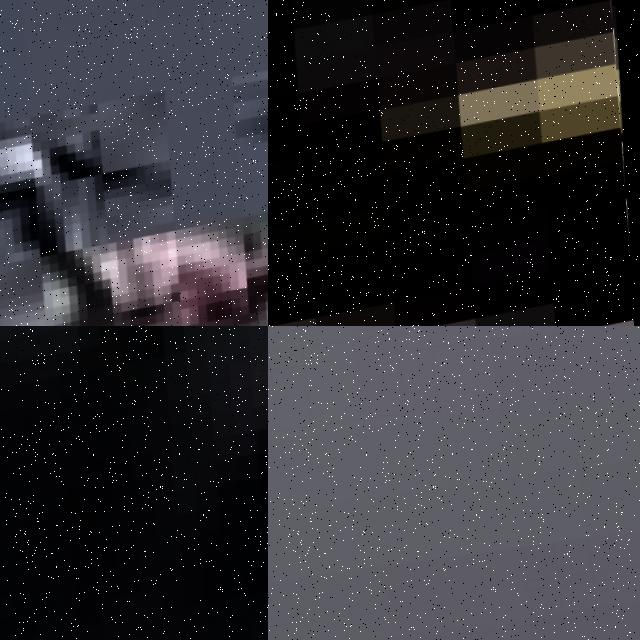drone: (268, 0, 640, 326), (0, 0, 268, 326), (0, 326, 268, 640)
